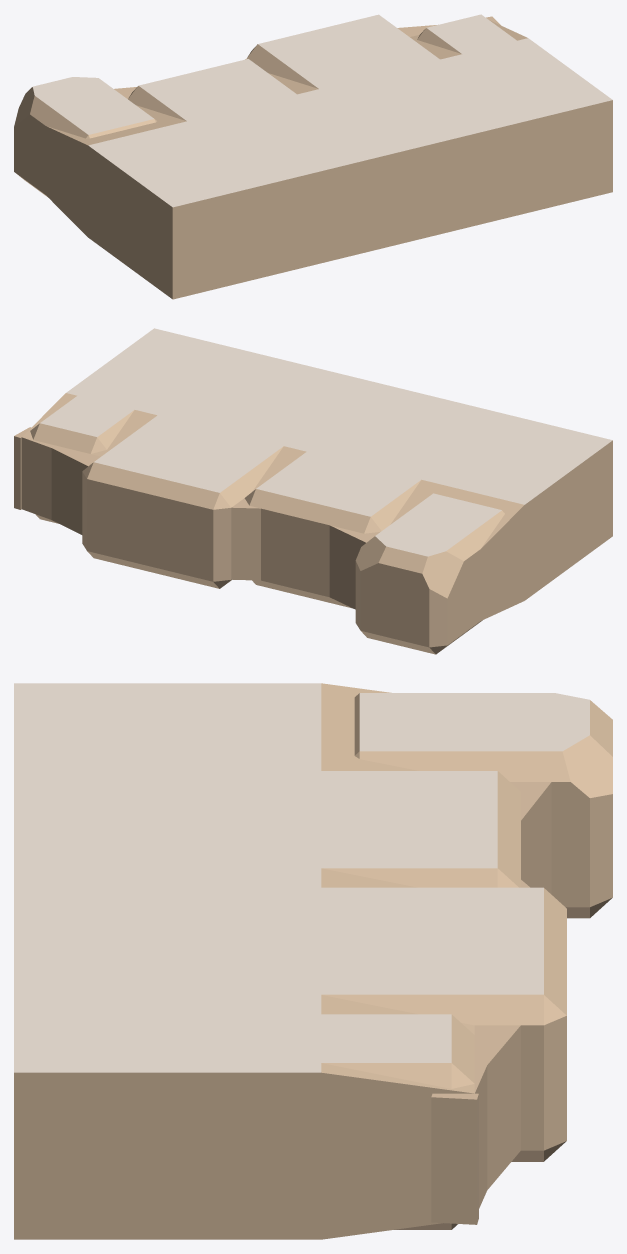
Rendered from Floor_Ruined_Straight_1.obj.
The picture shows the model from 3 angles, top to bottom: view 1: azimuth 30°, elevation 25°; view 2: azimuth 150°, elevation 25°; view 3: azimuth 270°, elevation 25°; orthographic projection. The views are drawn at different scales.
Parts seen in each view (by area): view 1: object1; view 2: object1; view 3: object1.
Part boxes in pixels (x1=…): object1: x1=14, y1=14, x2=612, y2=299; object1: x1=14, y1=328, x2=612, y2=654; object1: x1=14, y1=683, x2=612, y2=1239.
Bounding box in the file's own units: 1.02 × 0.2 × 0.65.
